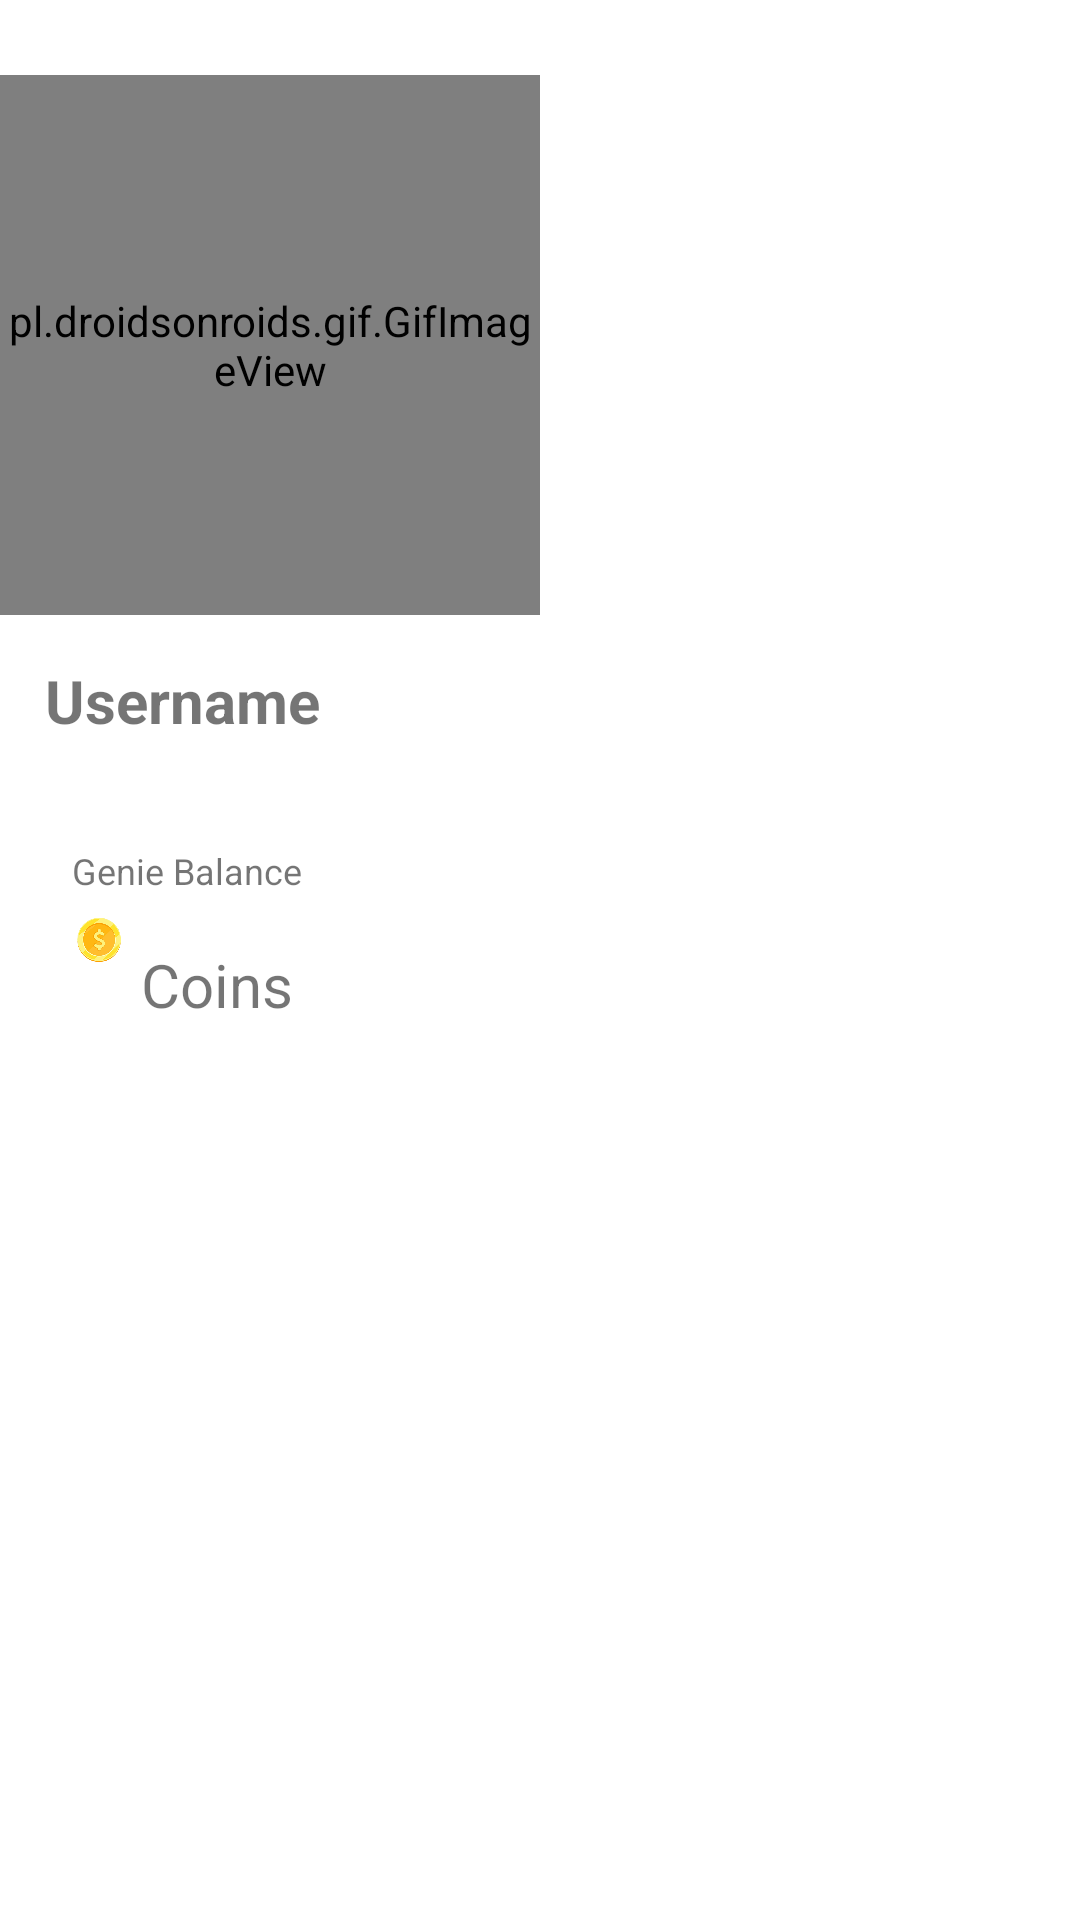

Screen size 1080 x 1920. Icon name, then its box in pixels as bbox=(x1, y1, x2, y2):
geniecoin: bbox=(77, 918, 121, 962)
